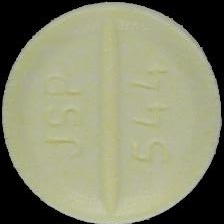68151-1602: (0, 0, 224, 224)
